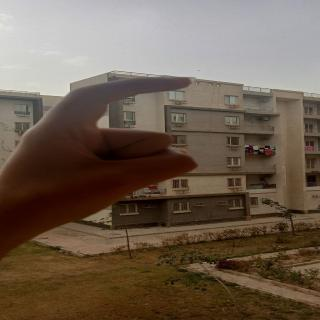RAA: (13, 61, 218, 228)
